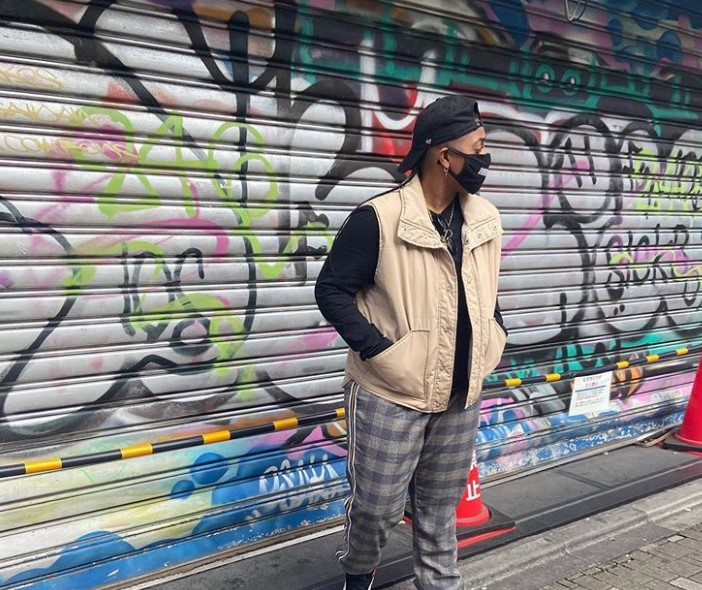face_with_mask: (397, 94, 485, 194)
